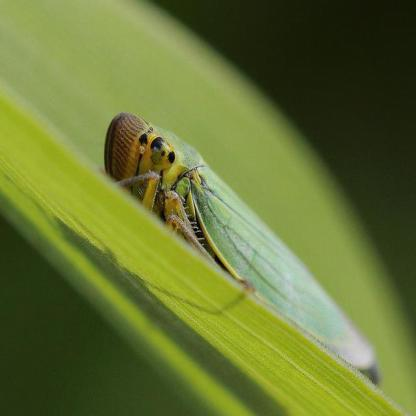Green-Leafhopper: (80, 76, 408, 406)
